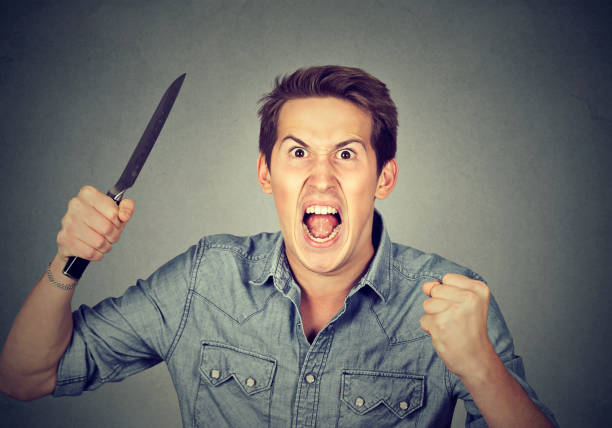knife: (61, 69, 189, 283)
